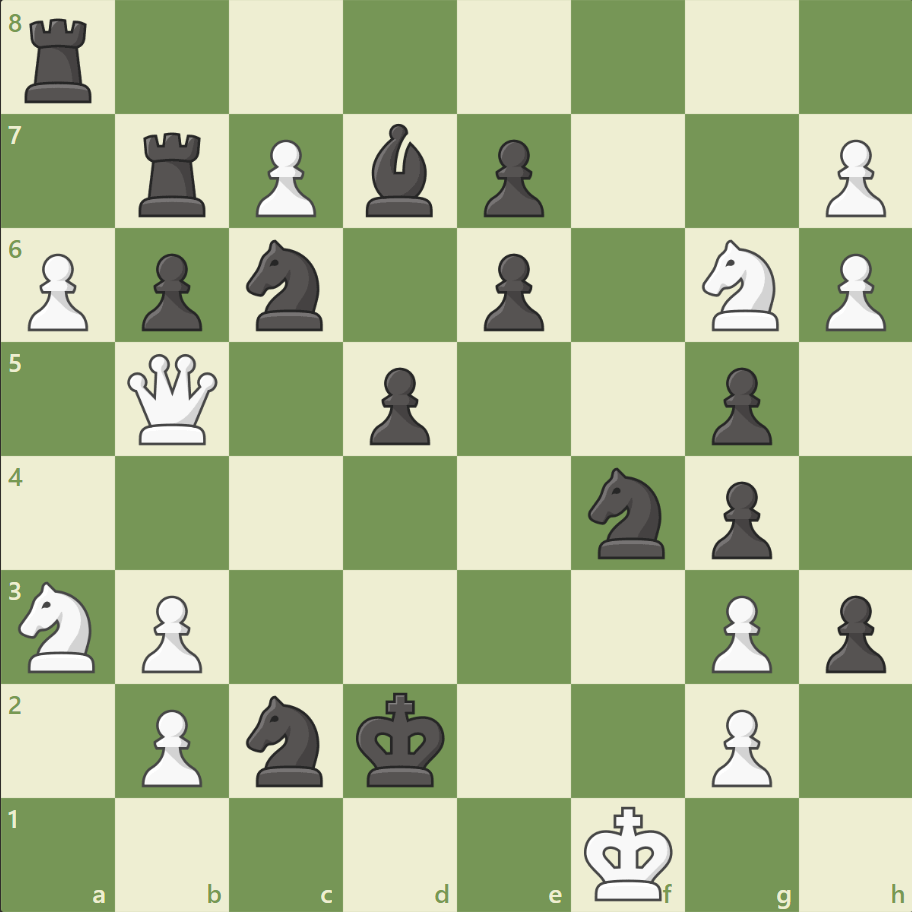K: (579, 798, 679, 906)
N: (692, 234, 789, 337), (11, 575, 108, 677)
P: (247, 132, 322, 223), (20, 246, 95, 337), (133, 586, 208, 677), (701, 586, 776, 677), (133, 700, 208, 791), (701, 700, 776, 791), (815, 132, 889, 223), (815, 246, 889, 337)
Q: (124, 349, 223, 449)
b: (358, 120, 442, 222)
k: (351, 685, 451, 793)
n: (238, 234, 335, 337), (579, 461, 676, 564), (238, 688, 335, 791)
p: (474, 132, 549, 223), (133, 246, 208, 337), (474, 246, 549, 337), (701, 359, 776, 450), (701, 473, 776, 564), (361, 359, 435, 450), (815, 586, 889, 677)
r: (19, 12, 102, 109), (133, 125, 215, 222)
